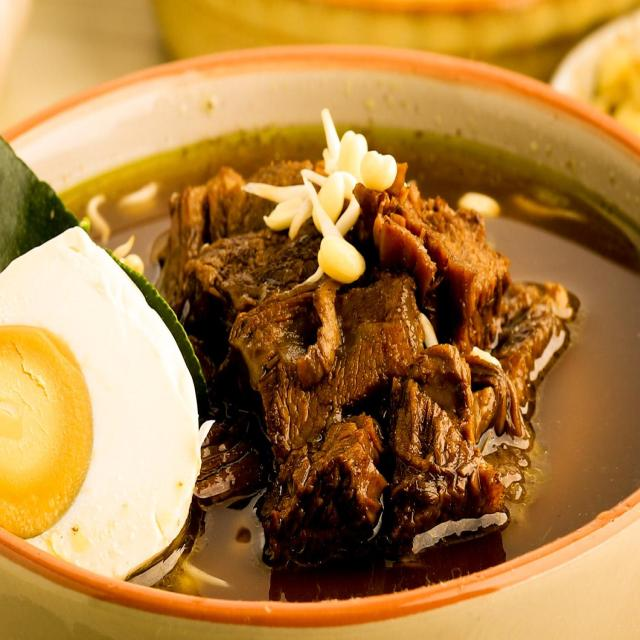Rawon: (14, 105, 634, 577)
